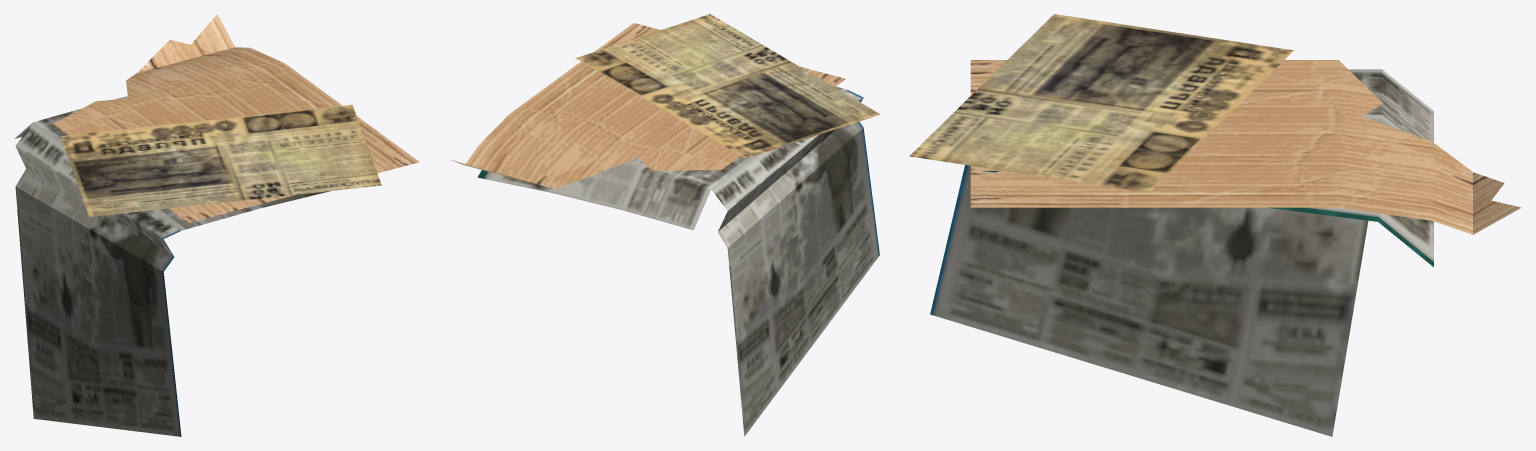
Rendered from NewsPapers1.fbx.
3 renders of one model, left to right at view 1: azimuth 30°, elevation 25°; view 2: azimuth 150°, elevation 25°; view 3: azimuth 270°, elevation 25°, orthographic. The views are drawn at different scales.
Parts seen in each view (by area): view 1: NewsPapers1; view 2: NewsPapers1; view 3: NewsPapers1.
Boxes of the visible parts, x1,y1,x2,y2 form: NewsPapers1: (14,14,419,436); NewsPapers1: (450,14,880,436); NewsPapers1: (909,14,1521,436).
Size of the model in its own units: 58.57 by 56.31 by 76.06.
